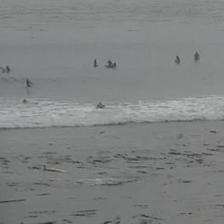surfer: (110, 61, 118, 69), (96, 102, 106, 108), (175, 54, 181, 64), (106, 59, 114, 66), (26, 78, 32, 86), (194, 51, 200, 59), (6, 65, 11, 72), (93, 58, 97, 66), (22, 99, 28, 103)
